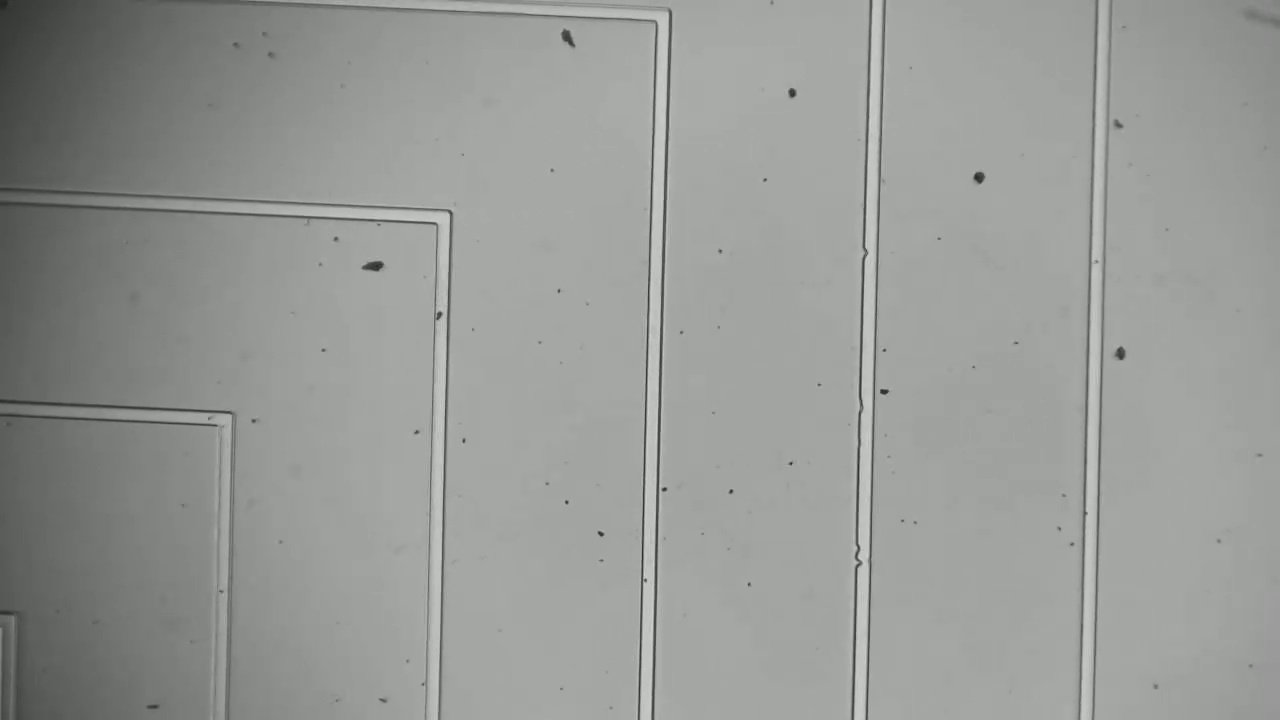edge_bite: (851, 389, 882, 421), (850, 543, 878, 574), (858, 235, 885, 261)
stains_enbedded: (427, 301, 456, 329)
